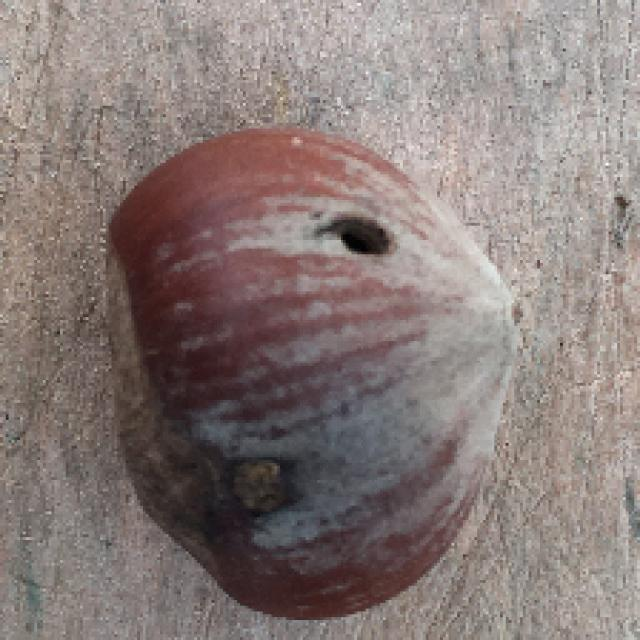DamagedHazelnut: (105, 131, 518, 618)
